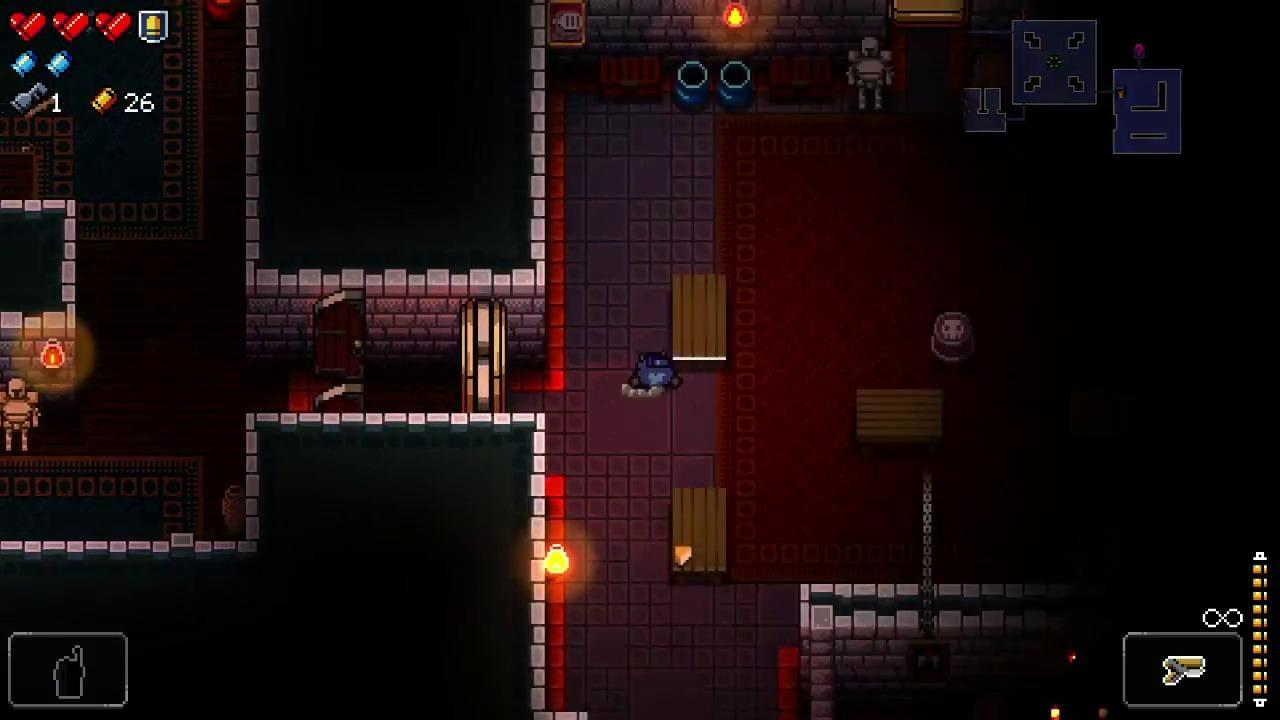explosive_barrel: (930, 310, 976, 369)
locked_door: (460, 298, 507, 414)
player: (627, 350, 685, 393)
table: (856, 387, 943, 456), (672, 489, 727, 586), (672, 275, 726, 372)
unlocked_door: (313, 287, 365, 413)
